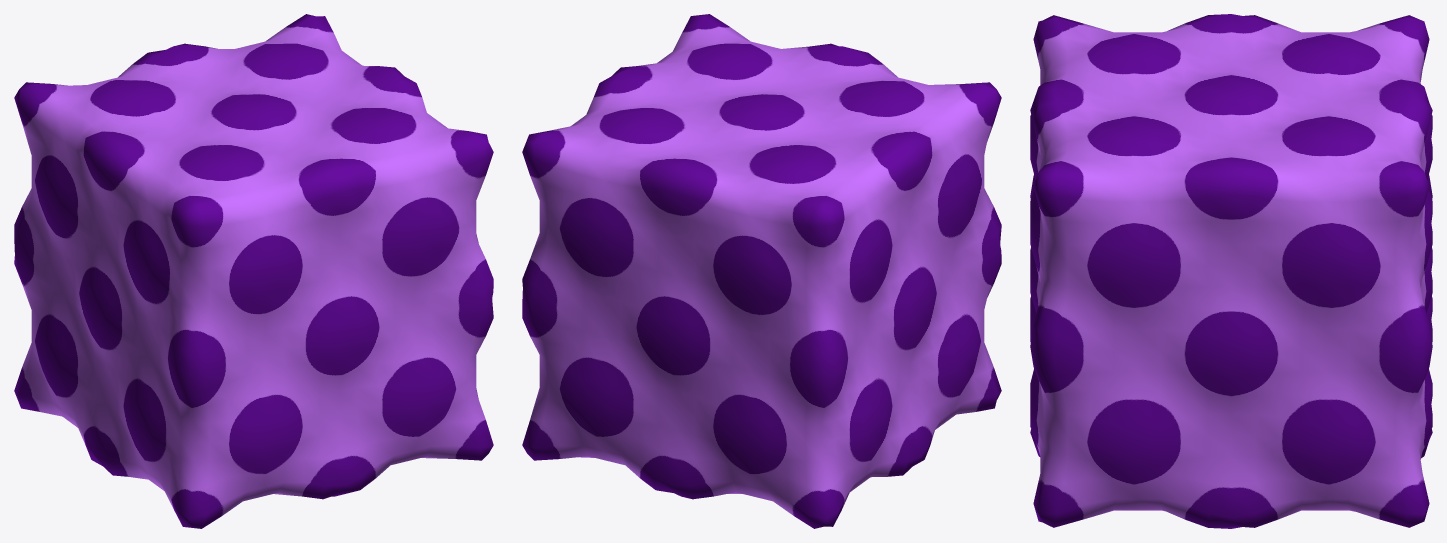
The model's file is ledge.obj.
3 renders of one model, left to right at view 1: azimuth 30°, elevation 25°; view 2: azimuth 150°, elevation 25°; view 3: azimuth 270°, elevation 25°, orthographic. The views are drawn at different scales.
Parts seen in each view (by area): view 1: Cube.001; view 2: Cube.001; view 3: Cube.001.
Part boxes in pixels (<box>): Cube.001: <box>14,14,493,528</box>; Cube.001: <box>522,14,1001,528</box>; Cube.001: <box>1030,14,1432,528</box>.
Size of the model in its own units: 68.75 by 68.75 by 68.75.
Materials: 1 (1 with a texture image).
